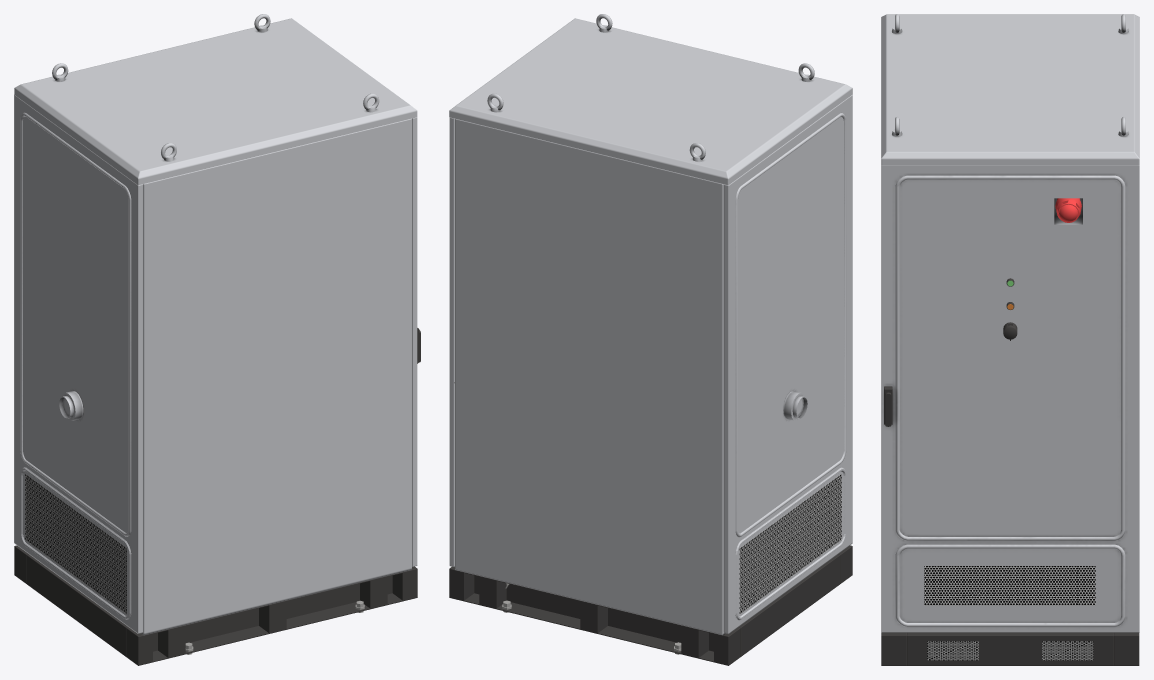
The model's file is haiyunji.glb.
3 renders of one model, left to right at view 1: azimuth 30°, elevation 25°; view 2: azimuth 150°, elevation 25°; view 3: azimuth 270°, elevation 25°, orthographic. The views are drawn at different scales.
Parts seen in each view (by area): view 1: Door_Shell, Door_back, Door_front.002; view 2: Door_Shell, Door_back, Door_front.002; view 3: Door_front.002, Door_Shell, 报警器.
Part boxes in pixels (x1,y1,x2,y2): Door_Shell: [14, 14, 417, 665]; Door_back: [14, 94, 142, 633]; Door_front.002: [412, 117, 420, 566]; Door_Shell: [449, 14, 852, 665]; Door_back: [723, 95, 852, 633]; Door_front.002: [449, 117, 454, 566]; Door_front.002: [881, 165, 1139, 632]; Door_Shell: [881, 14, 1139, 665]; 报警器: [1055, 198, 1081, 222].
Size of the model in its own units: 1.4 by 2.27 by 0.9999.
Materials: 11 (4 with a texture image).
